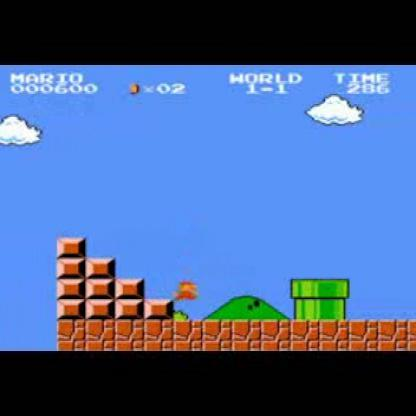Hoyo: (0, 318, 63, 351)
